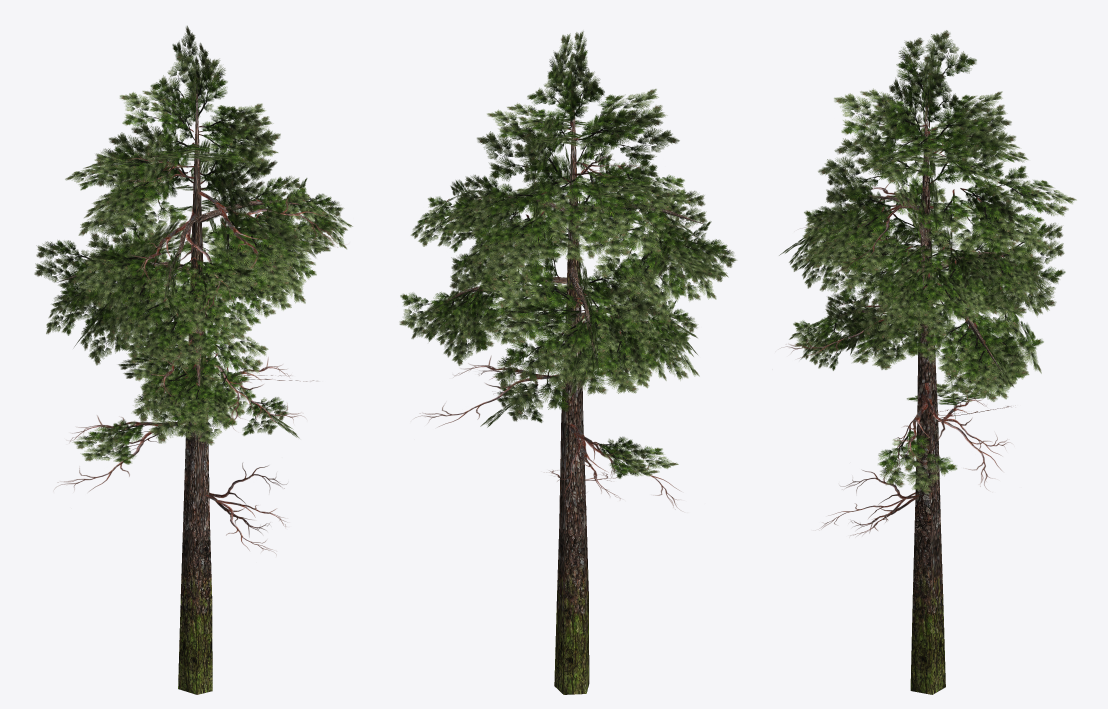
Rendered from tree951.glb.
3 renders of one model, left to right at view 1: azimuth 30°, elevation 25°; view 2: azimuth 150°, elevation 25°; view 3: azimuth 270°, elevation 25°, orthographic.
Parts seen in each view (by area): view 1: tree951-col; view 2: tree951-col; view 3: tree951-col.
Boxes of the visible parts, x1,y1,x2,y2 form: tree951-col: (34,25,352,694); tree951-col: (399,31,736,694); tree951-col: (779,30,1076,694).
Bounding box in the file's own units: 21.63 × 45.82 × 19.88.
Materials: 2 (2 with a texture image).
